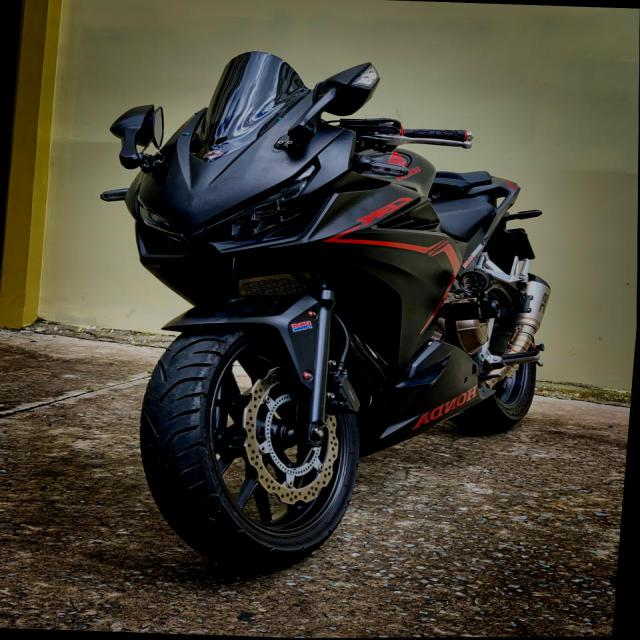CBR500R: (65, 43, 572, 594)
